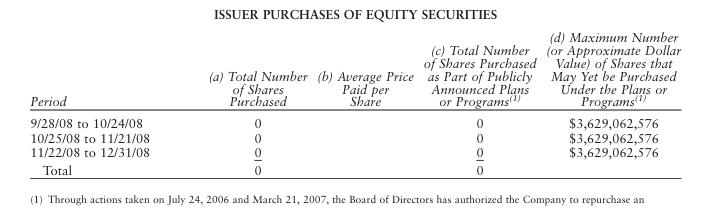table: (29, 28, 680, 176)
table column: (29, 28, 178, 176), (540, 28, 680, 176), (178, 28, 311, 176), (417, 28, 540, 176), (311, 28, 417, 176)
table column header: (29, 28, 680, 111)
table row: (29, 28, 680, 111), (29, 111, 680, 129), (29, 144, 680, 160), (29, 160, 680, 176), (29, 129, 680, 144)
